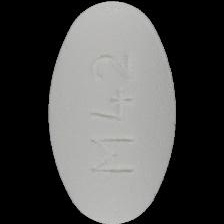68180-216: (0, 0, 224, 224)
